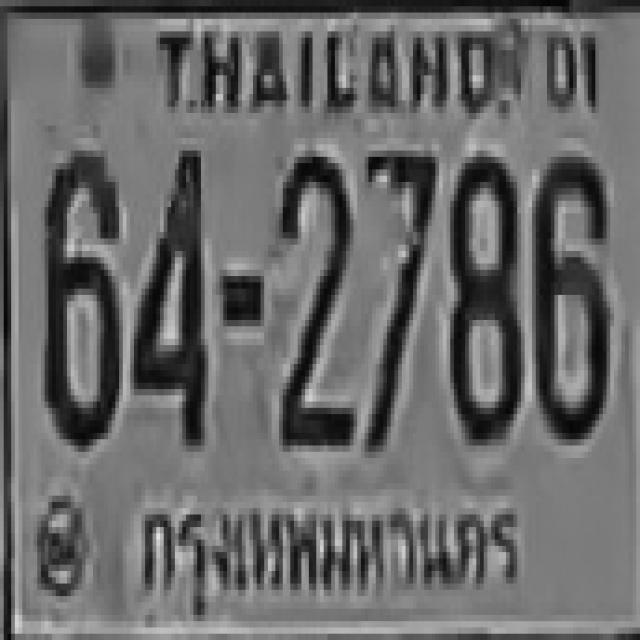2: (275, 150, 350, 446)
4: (130, 144, 205, 440)
6: (41, 148, 115, 442), (532, 151, 607, 433)
7: (361, 148, 435, 448)
8: (447, 151, 517, 439)
Bangkok: (127, 489, 528, 616)
